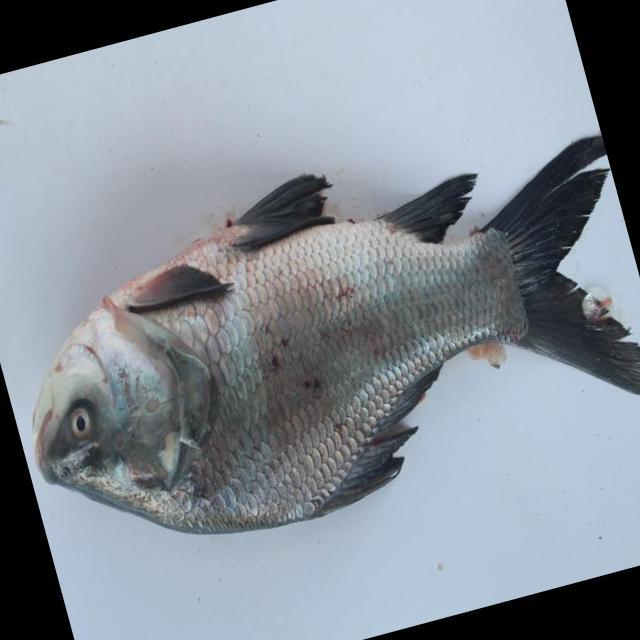Catla: (18, 131, 640, 533)
